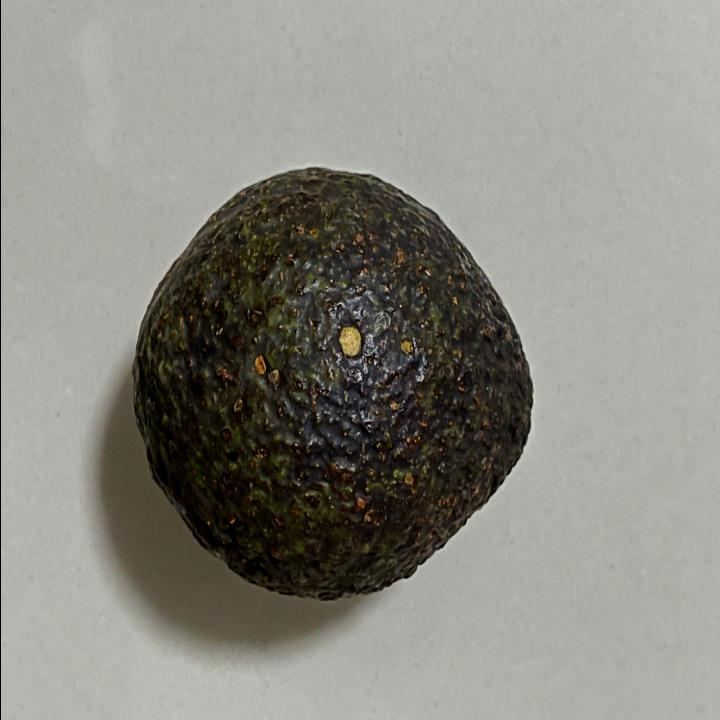Level1: (122, 150, 552, 613)
